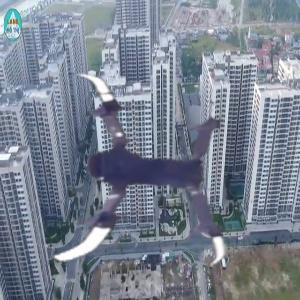drone: (18, 63, 237, 282)
